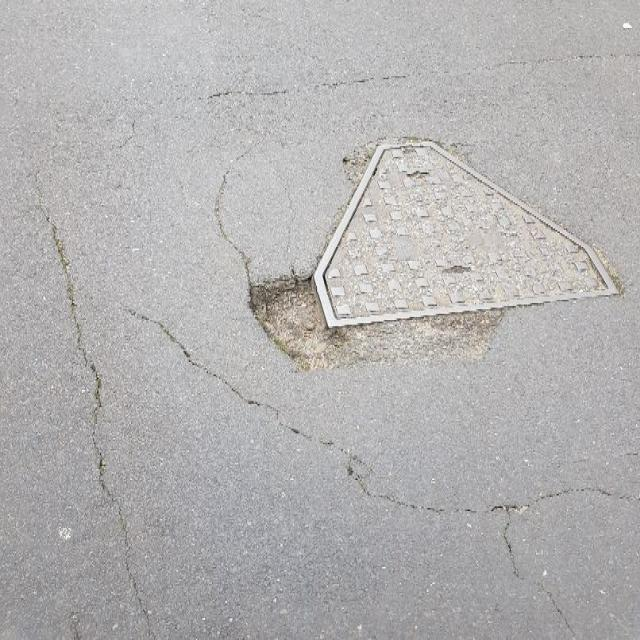Pothole: (245, 275, 506, 379)
